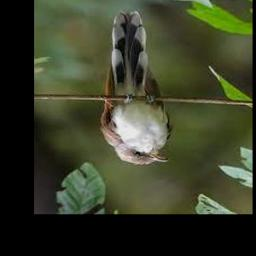Cuckoo: (101, 10, 174, 165)
